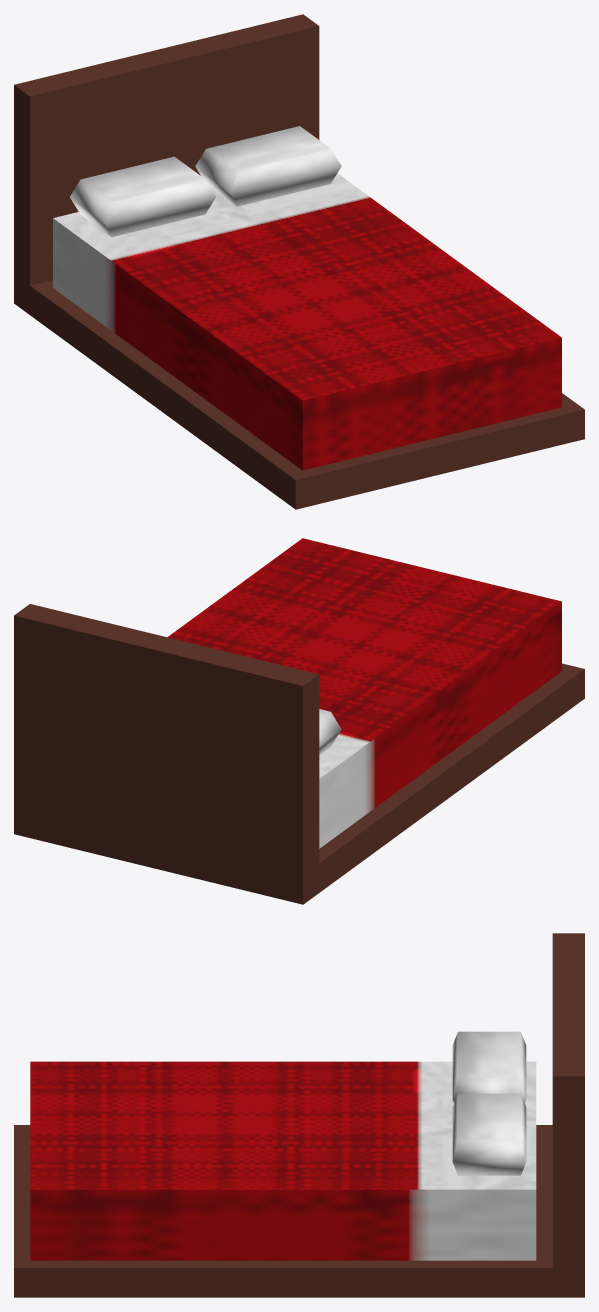
File: Bed.fbx
The picture shows the model from 3 angles, top to bottom: view 1: azimuth 30°, elevation 25°; view 2: azimuth 150°, elevation 25°; view 3: azimuth 270°, elevation 25°; orthographic projection.
Visible parts, largest first — view 1: Bed, Pillows; view 2: Bed, Pillows; view 3: Bed, Pillows.
Boxes of the visible parts, x1,y1,x2,y2 form: Bed: (14, 14, 584, 509); Pillows: (70, 126, 341, 237); Bed: (14, 538, 584, 904); Pillows: (319, 709, 341, 754); Bed: (14, 933, 584, 1297); Pillows: (452, 1031, 526, 1175).
Bounding box in the file's own units: 3.2 × 2.31 × 5.4.
